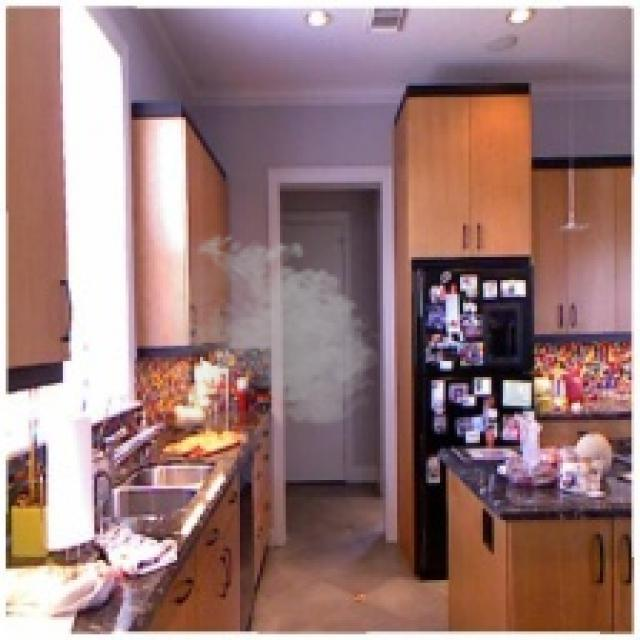Smoke: (171, 228, 386, 432)
